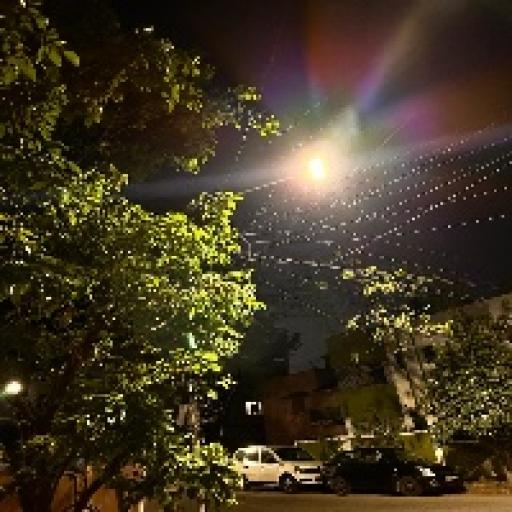Working: (295, 153, 344, 197)
